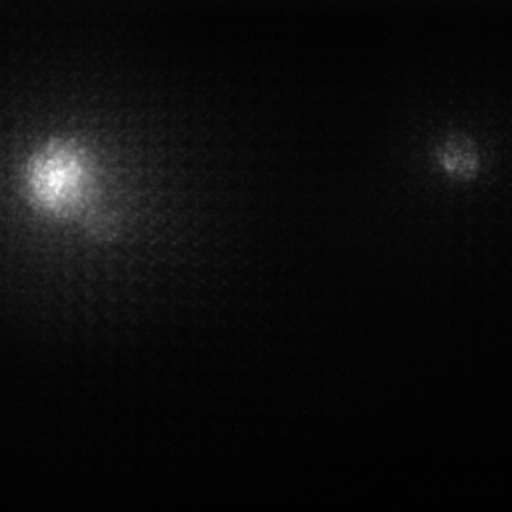lam3: (18, 138, 104, 224), (440, 150, 475, 172)
